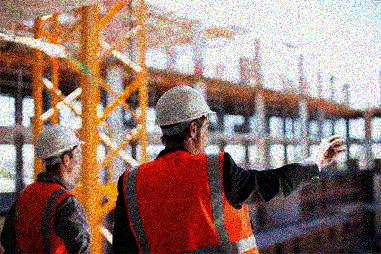helmet: (155, 85, 218, 157), (34, 124, 87, 177)
